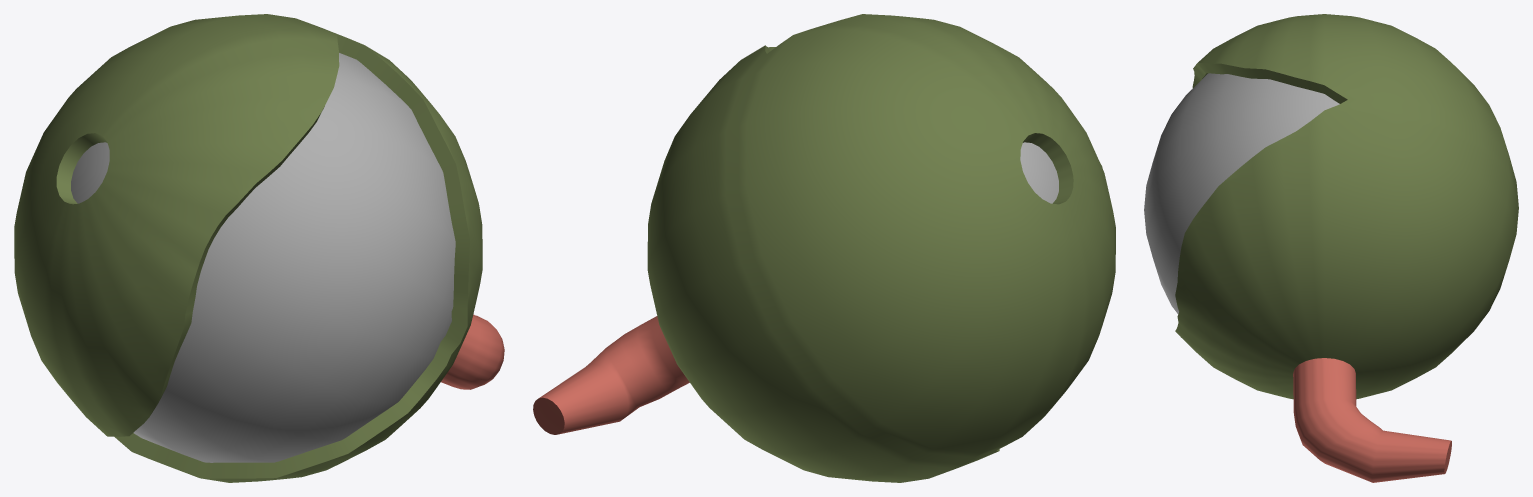
The model's file is Oeil.fbx.
3 views of the same model, side by side, from view 1: azimuth 30°, elevation 25°; view 2: azimuth 150°, elevation 25°; view 3: azimuth 270°, elevation 25° (orthographic). The views are drawn at different scales.
Visible parts, largest first — view 1: polySurface2; view 2: polySurface2; view 3: polySurface2.
Boxes of the visible parts, <box> form: polySurface2: <box>14,14,504,482</box>; polySurface2: <box>533,14,1115,482</box>; polySurface2: <box>1144,14,1518,482</box>.
Size of the model in its own units: 2.53 by 2.15 by 2.08.
